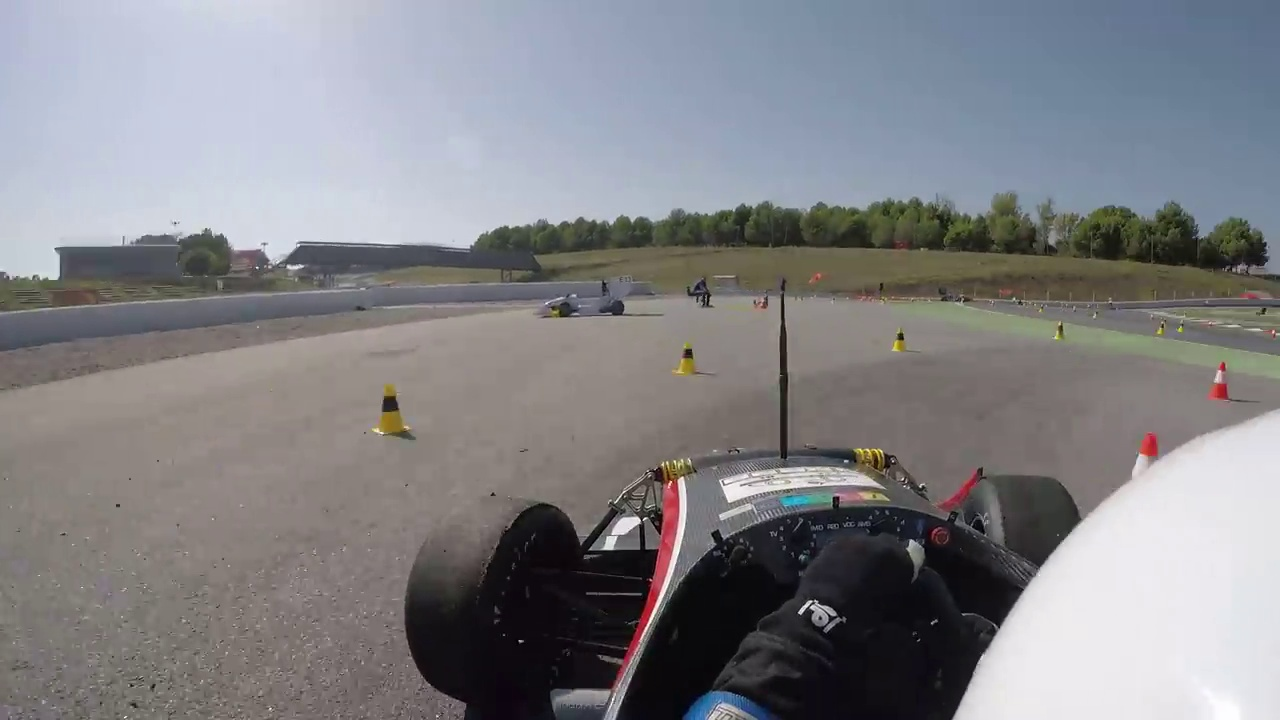Cone: (375, 380, 409, 435), (1209, 362, 1232, 402), (677, 340, 702, 376), (891, 323, 911, 352)
